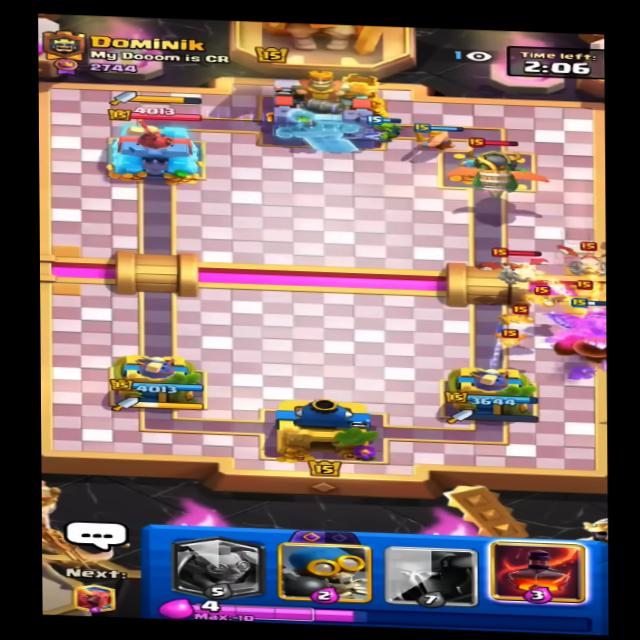inferno-dragon: (466, 133, 521, 203)
skeleton-dragon: (477, 241, 552, 283), (551, 238, 618, 283)
